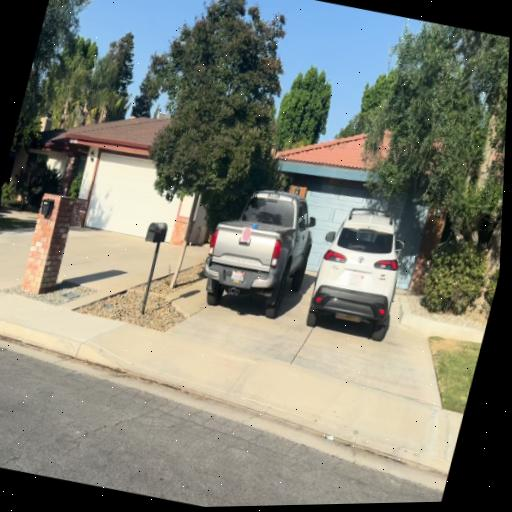bullseye: (240, 227, 252, 242)
